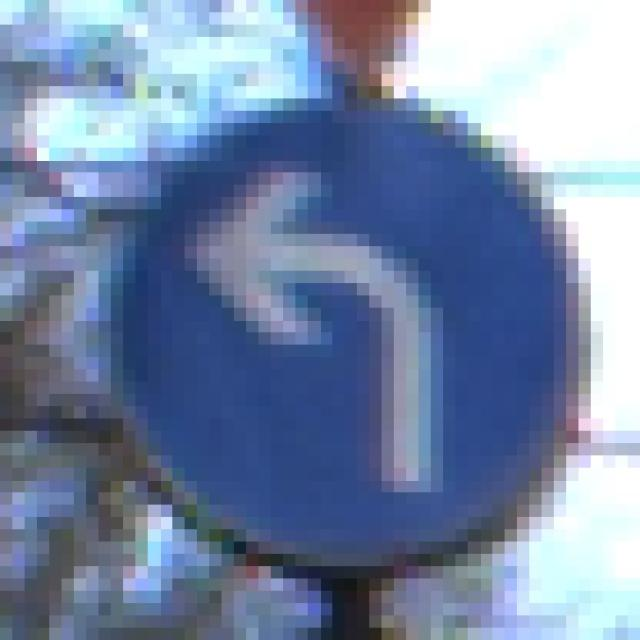Turn left ahead: (86, 62, 603, 590)
